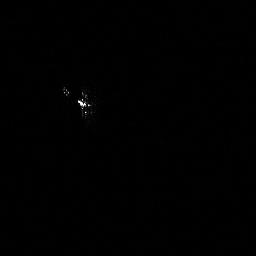ship: (62, 84, 97, 120)
